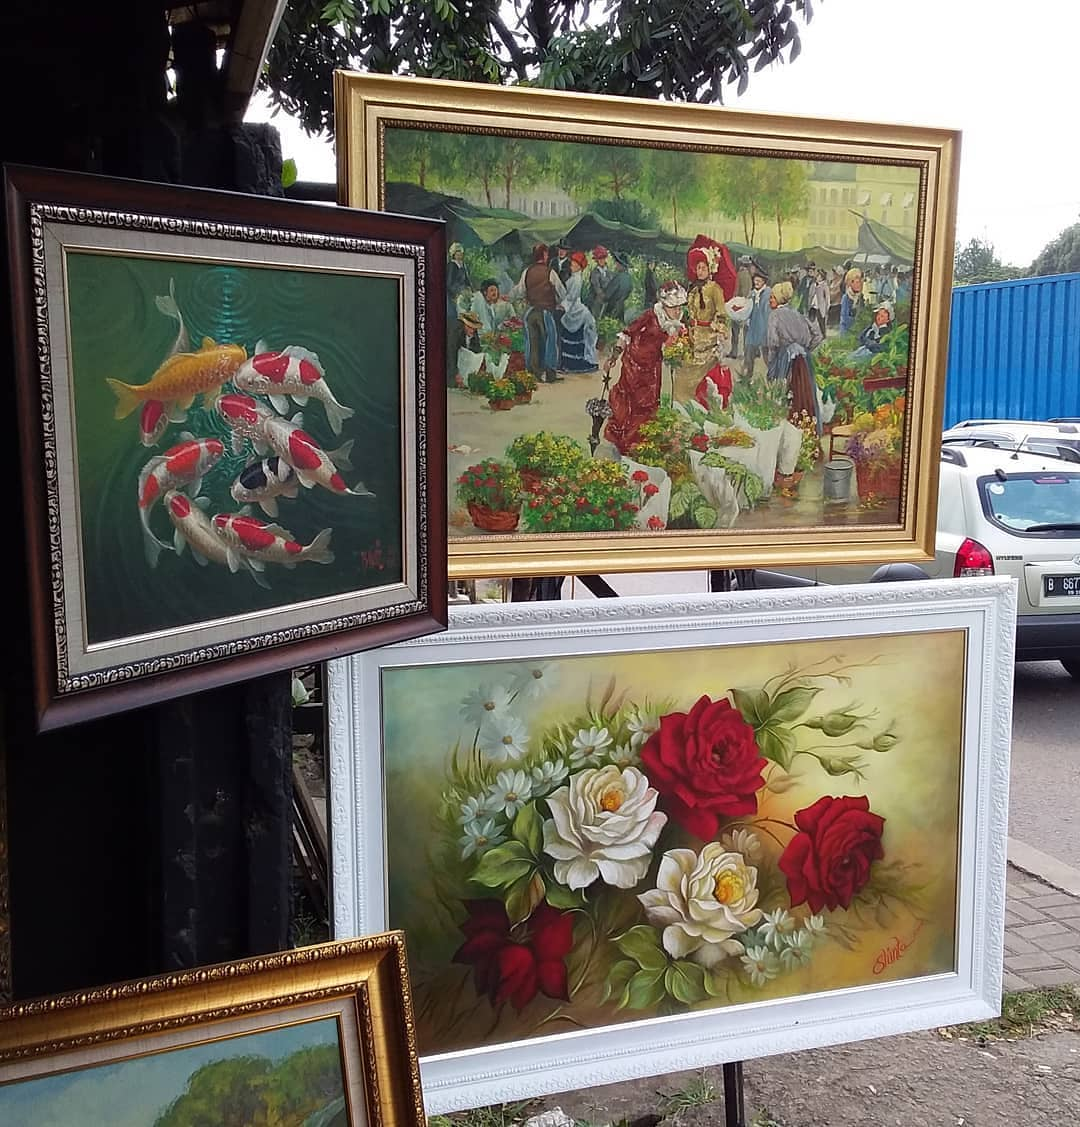lukisan: (317, 51, 943, 571), (321, 637, 1035, 1053), (27, 190, 457, 675)
